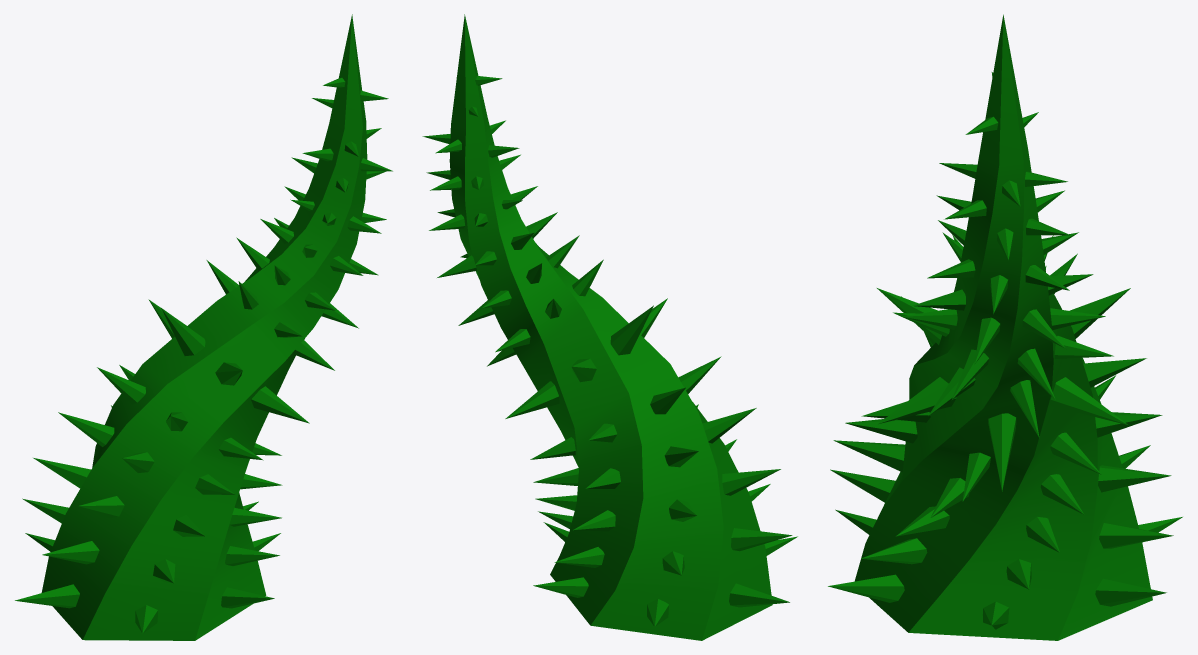
Rendered from Mesh_Espinafix_v002.fbx.
3 views of the same model, side by side, from view 1: azimuth 30°, elevation 25°; view 2: azimuth 150°, elevation 25°; view 3: azimuth 270°, elevation 25° (orthographic). The views are drawn at different scales.
Parts seen in each view (by area): view 1: Mesh_Tallo_V2, Mesh_Espinas_V1_245, Mesh_Espinas_V1_216, Mesh_Espinas_V1_214, Mesh_Espinas_V1_239, Mesh_Espinas_V1_228, Mesh_Espinas_V1_234, Mesh_Espinas_V1_222, Mesh_Espinas_V1_243, Mesh_Espinas_V1_237, Mesh_Espinas_V1_233, Mesh_Espinas_V1_231; view 2: Mesh_Tallo_V2, Mesh_Espinas_V1_216, Mesh_Espinas_V1_245, Mesh_Espinas_V1_239, Mesh_Espinas_V1_233, Mesh_Espinas_V1_212, Mesh_Espinas_V1_227, Mesh_Espinas_V1_241, Mesh_Espinas_V1_235, Mesh_Espinas_V1_229; view 3: Mesh_Tallo_V2, Mesh_Espinas_V1_212, Mesh_Espinas_V1_213, Mesh_Espinas_V1_243, Mesh_Espinas_V1_214, Mesh_Espinas_V1_241, Mesh_Espinas_V1_235, Mesh_Espinas_V1_229, Mesh_Espinas_V1_232, Mesh_Espinas_V1_237, Mesh_Espinas_V1_226, Mesh_Espinas_V1_217 (+24 smaller).
Boxes of the visible parts, x1,y1,x2,y2 form: Mesh_Tallo_V2: (41, 14, 367, 640); Mesh_Espinas_V1_245: (15, 584, 79, 608); Mesh_Espinas_V1_216: (161, 308, 205, 355); Mesh_Espinas_V1_214: (251, 386, 309, 423); Mesh_Espinas_V1_239: (42, 541, 99, 564); Mesh_Espinas_V1_228: (58, 412, 114, 446); Mesh_Espinas_V1_234: (33, 458, 90, 488); Mesh_Espinas_V1_222: (97, 367, 145, 404); Mesh_Espinas_V1_243: (221, 587, 274, 608); Mesh_Espinas_V1_237: (225, 546, 279, 565); Mesh_Espinas_V1_233: (78, 496, 124, 518); Mesh_Espinas_V1_231: (229, 507, 281, 526); Mesh_Tallo_V2: (449, 14, 772, 640); Mesh_Espinas_V1_216: (610, 305, 653, 355); Mesh_Espinas_V1_245: (729, 583, 789, 607); Mesh_Espinas_V1_239: (731, 528, 792, 551); Mesh_Espinas_V1_233: (722, 469, 780, 495); Mesh_Espinas_V1_212: (505, 381, 559, 418); Mesh_Espinas_V1_227: (702, 408, 756, 443); Mesh_Espinas_V1_241: (533, 577, 588, 597); Mesh_Espinas_V1_235: (554, 547, 604, 567); Mesh_Espinas_V1_229: (573, 510, 615, 531); Mesh_Tallo_V2: (854, 14, 1152, 640); Mesh_Espinas_V1_212: (1050, 377, 1128, 425); Mesh_Espinas_V1_213: (988, 413, 1016, 491); Mesh_Espinas_V1_243: (828, 574, 904, 602); Mesh_Espinas_V1_214: (877, 377, 956, 424); Mesh_Espinas_V1_241: (1095, 578, 1166, 606); Mesh_Espinas_V1_235: (1099, 522, 1173, 548); Mesh_Espinas_V1_229: (1098, 465, 1171, 492); Mesh_Espinas_V1_232: (833, 440, 905, 472); Mesh_Espinas_V1_237: (861, 538, 927, 564); Mesh_Espinas_V1_226: (845, 419, 917, 443); Mesh_Espinas_V1_217: (1083, 358, 1146, 387).
Bounding box in the file's own units: 979 × 1364 × 615.
